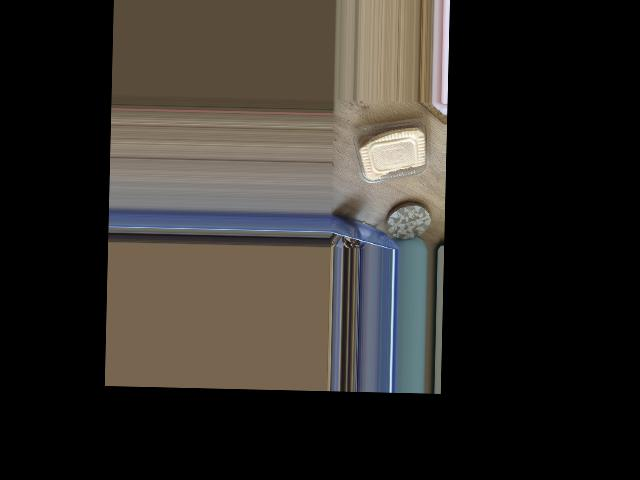cheese: (359, 100, 440, 189)
